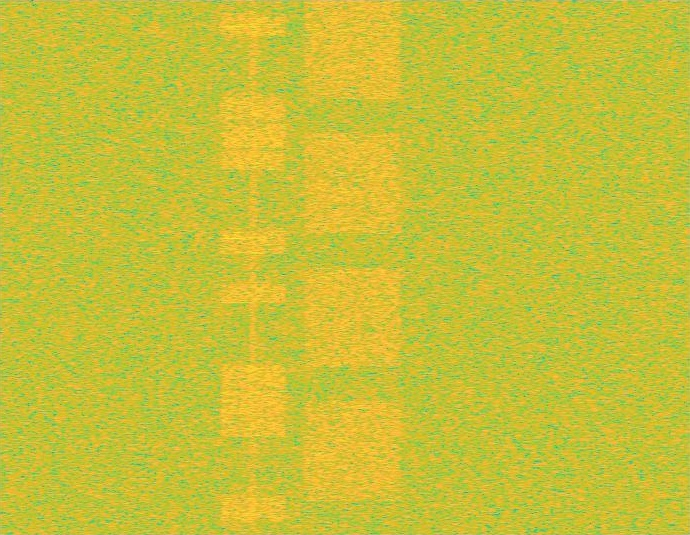5G: (301, 0, 405, 534)
DSSS: (249, 0, 258, 534)
LTE: (219, 0, 288, 534)
Radar: (226, 0, 239, 534)
